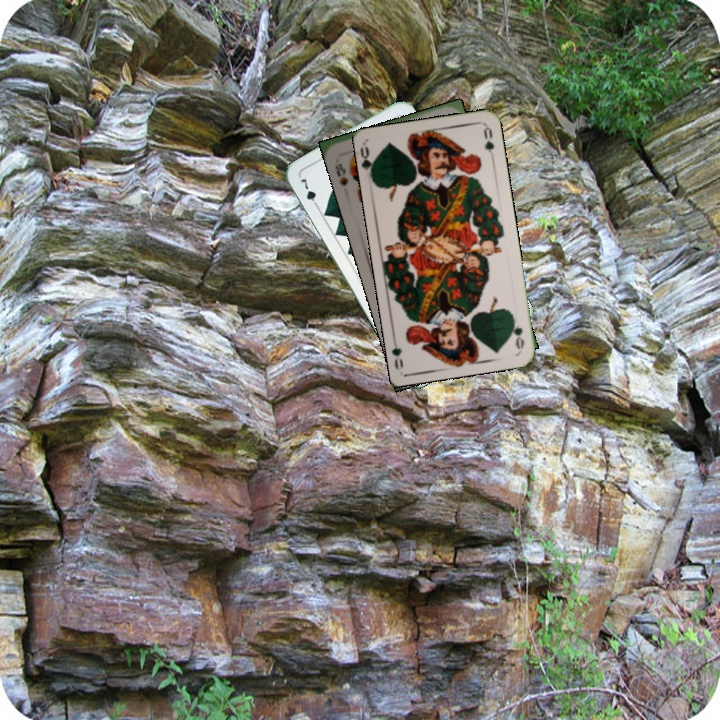G7: (296, 174, 322, 211)
GO: (357, 143, 379, 183), (508, 311, 527, 351)
S8: (331, 159, 351, 188)
